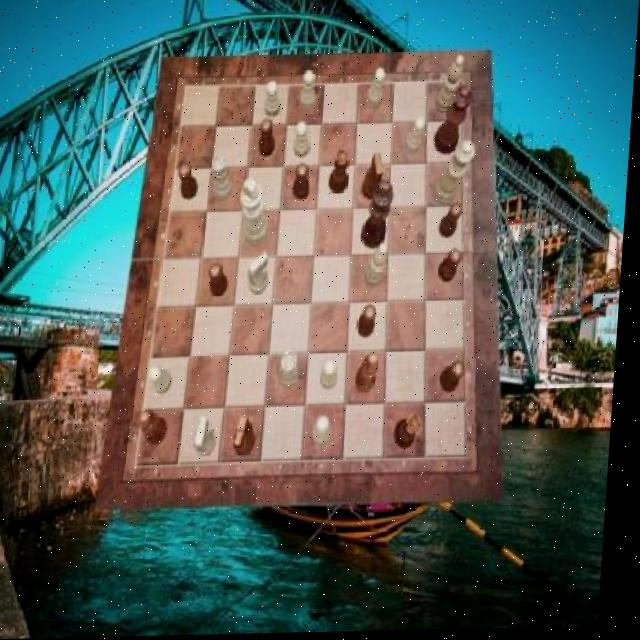bishop: (144, 412, 175, 447), (360, 354, 386, 395)
black-bishop: (363, 182, 397, 252)
black-king: (365, 155, 388, 201), (238, 418, 263, 458)
black-knight: (442, 204, 467, 241), (441, 250, 466, 285), (445, 364, 470, 397), (180, 164, 202, 201), (261, 120, 279, 159), (212, 265, 233, 298), (295, 165, 313, 202), (361, 307, 380, 341)
black-pawn: (436, 87, 475, 157)
black-queen: (400, 417, 429, 452), (331, 150, 352, 196)
black-rook: (435, 57, 465, 115), (367, 244, 393, 290)
white-bishop: (241, 178, 274, 248)
white-king: (252, 252, 275, 296), (200, 419, 225, 459)
white-knight: (407, 119, 429, 157), (368, 70, 387, 110), (153, 366, 179, 395), (302, 73, 320, 113), (296, 124, 314, 160), (266, 83, 284, 119), (318, 417, 337, 448), (325, 361, 344, 392)
white-pawn: (435, 142, 478, 207)
white-queen: (212, 155, 238, 201), (284, 353, 306, 391)
